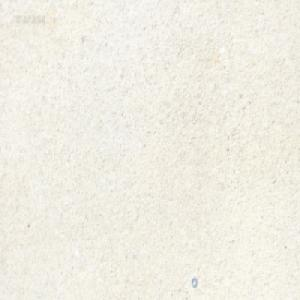Washer: (191, 276, 197, 287)
